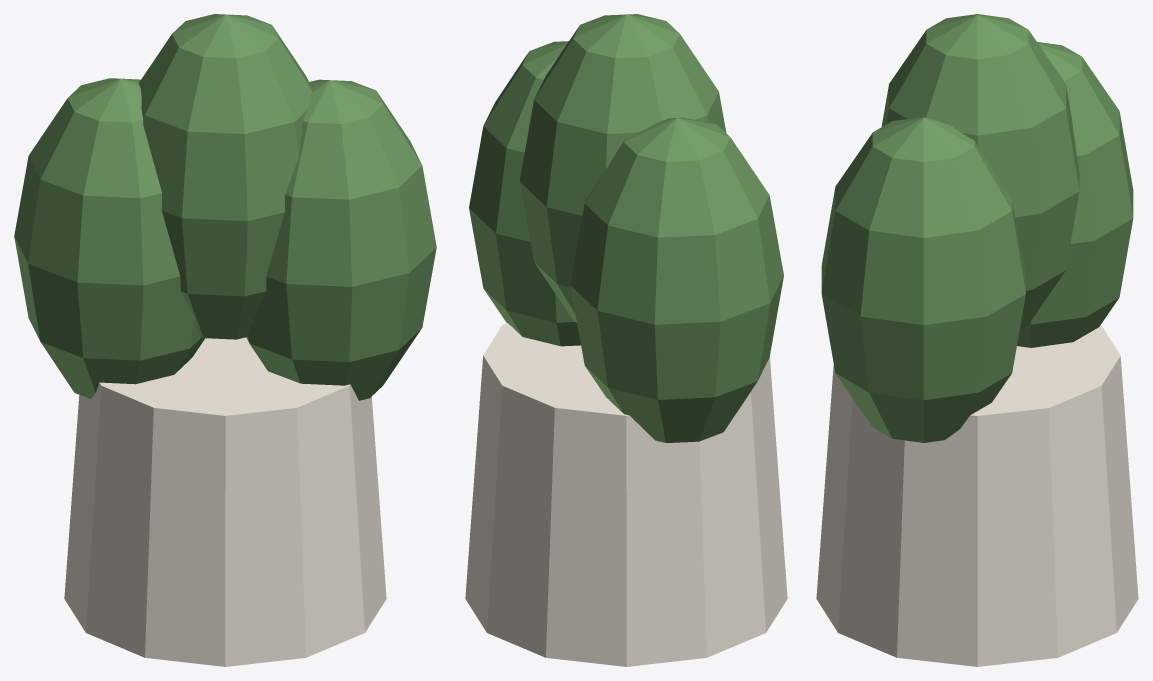
Rendered from planta_pequena.glb.
3 renders of one model, left to right at view 1: azimuth 30°, elevation 25°; view 2: azimuth 150°, elevation 25°; view 3: azimuth 270°, elevation 25°, orthographic.
Visible parts, largest first — view 1: planta_pequena; view 2: planta_pequena; view 3: planta_pequena.
Part boxes in pixels (x1=…): planta_pequena: x1=14, y1=14, x2=436, y2=666; planta_pequena: x1=465, y1=14, x2=787, y2=666; planta_pequena: x1=816, y1=14, x2=1138, y2=666.
Bounding box in the file's own units: 0.22 × 0.36 × 0.18.
